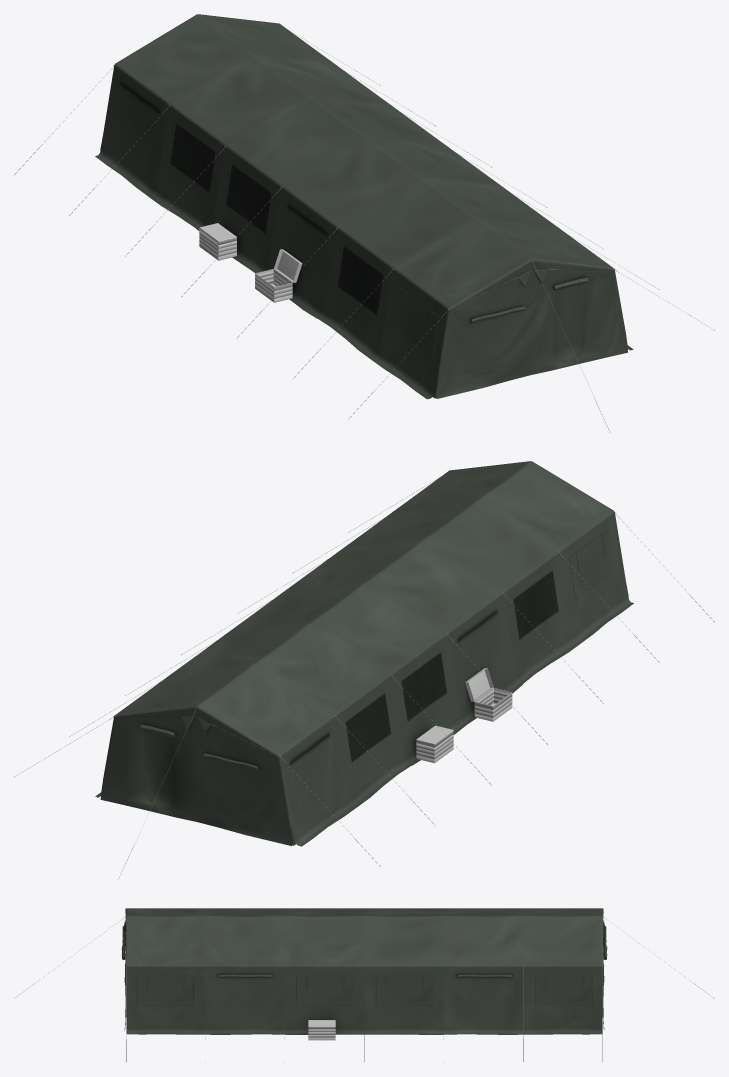
Rendered from dd_pre.fbx.
3 views of the same model, one above another, from view 1: azimuth 30°, elevation 25°; view 2: azimuth 150°, elevation 25°; view 3: azimuth 270°, elevation 25° (orthographic). The views are drawn at different scales.
Parts seen in each view (by area): view 1: Group001; view 2: Group001; view 3: Group001.
Part boxes in pixels (x1=…): Group001: x1=14, y1=14, x2=714, y2=432; Group001: x1=14, y1=461, x2=714, y2=879; Group001: x1=14, y1=908, x2=714, y2=1062.
Bounding box in the file's own units: 88473 × 26824 × 205401.
